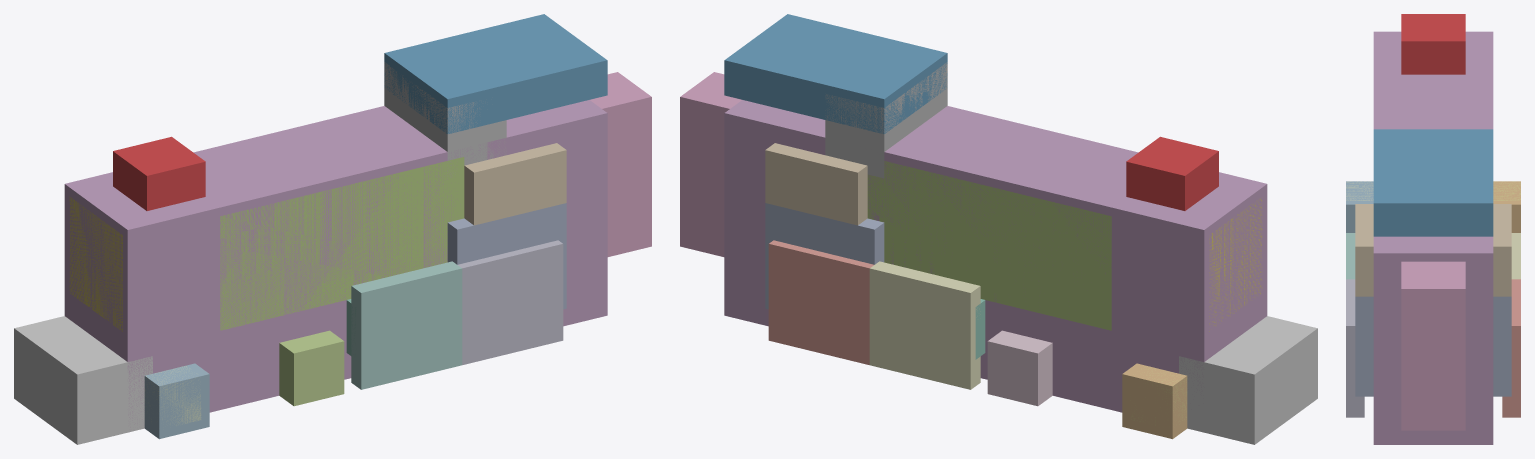
Rendered from train_bbox.glb.
The picture shows the model from 3 angles, left to right: view 1: azimuth 30°, elevation 25°; view 2: azimuth 150°, elevation 25°; view 3: azimuth 270°, elevation 25°; orthographic projection. The views are drawn at different scales.
Parts seen in each view (by area): view 1: world; view 2: world; view 3: world.
Part boxes in pixels (x1,y1,x2,y2): world: (14,14,651,444); world: (680,14,1317,444); world: (1346,14,1520,444).
Bounding box in the file's own units: 1.11 × 0.4603 × 0.3016.
